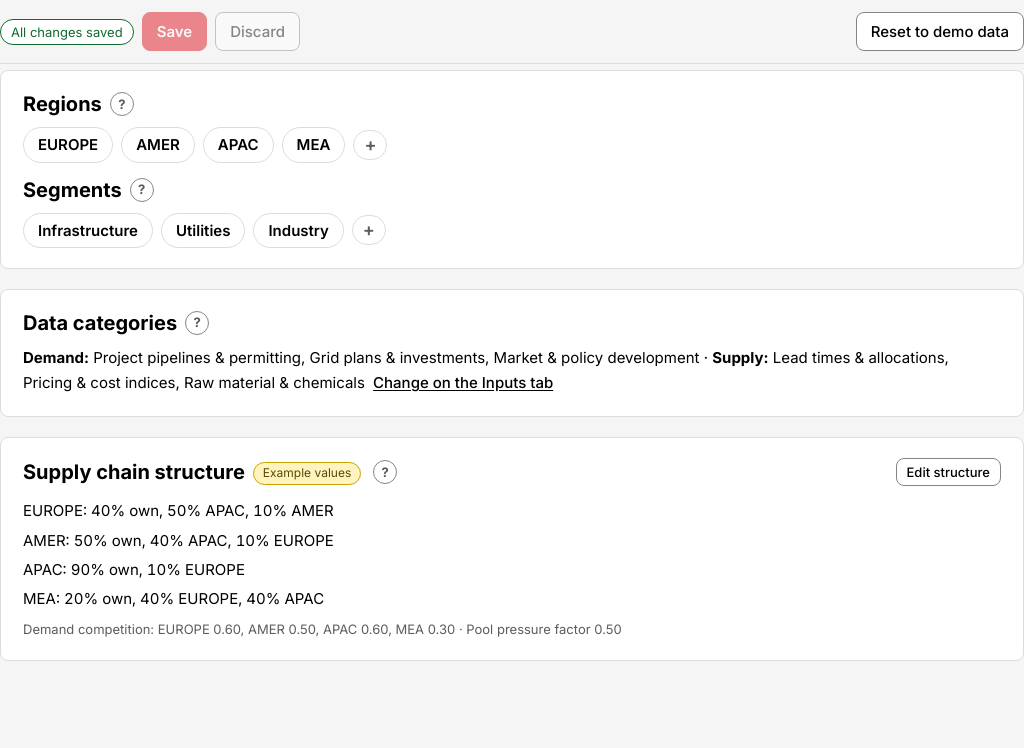
Test case: SetupTab › supply chain structure is collapsed to plain lines; Edit structure opens the matrix
This screenshot has width=1024, height=748.
Expected: the list named "Regions" is shown, [23,127,387,163]
Expected: the list item "AMER: 50% own, 40% APAC, 10% EUROPE" is shown, [23,531,334,550]
Click the button "Edit structure": (948, 472) [896,458,1001,486]
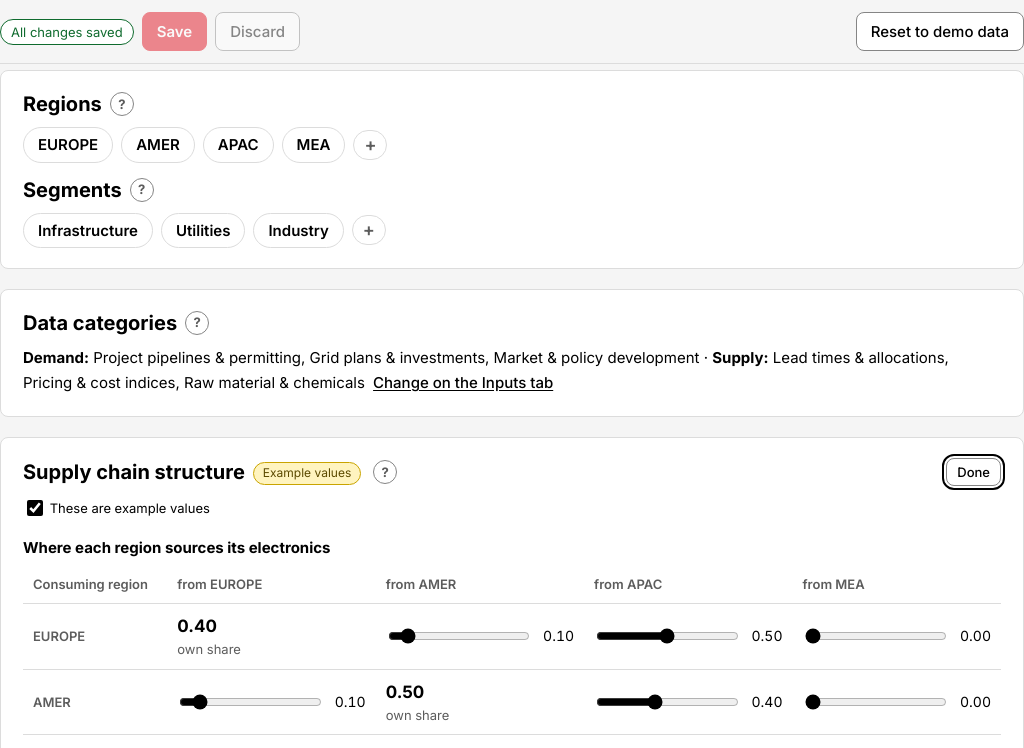
Expected: the slider named "Share of AMER electronics sourced from APAC" is shown, [596,694,738,710]
Click the button "Done": (974, 472) [946,458,1001,486]
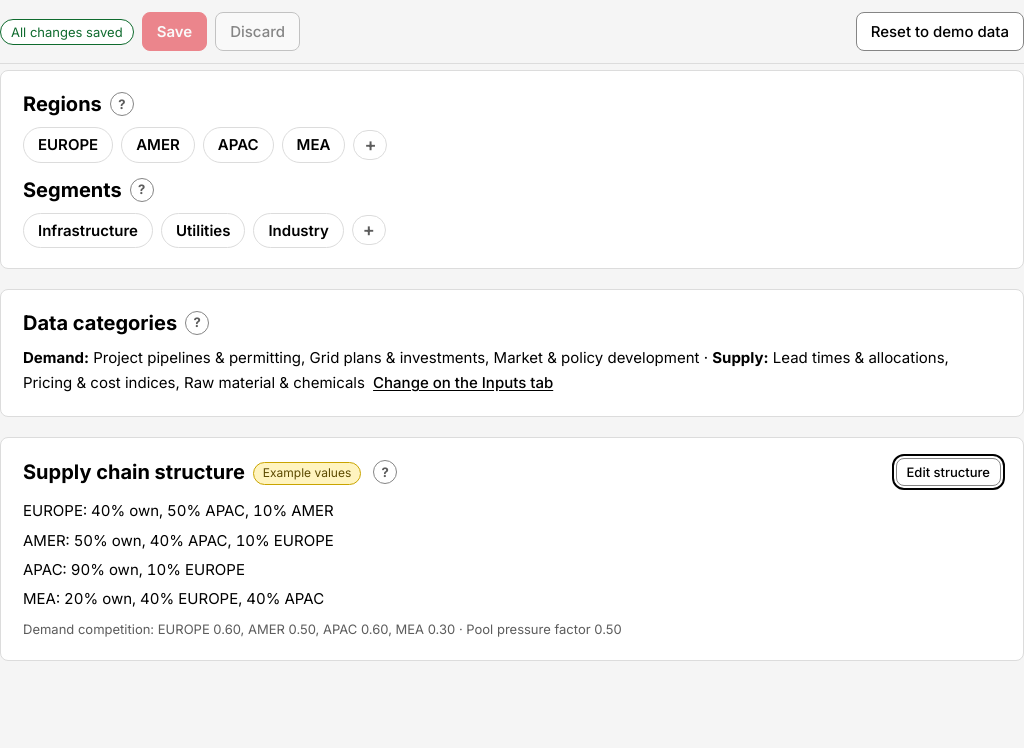
Expected: the list item "AMER: 50% own, 40% APAC, 10% EUROPE" is shown, [23,531,334,550]
